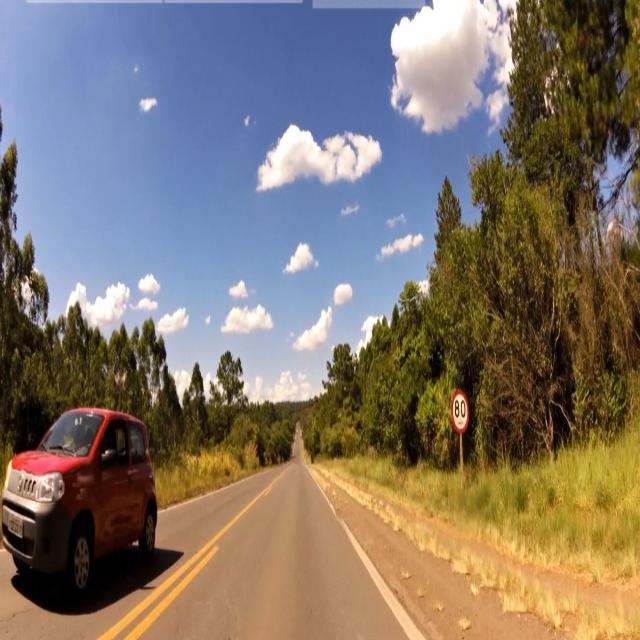R-19: (450, 387, 472, 431)
